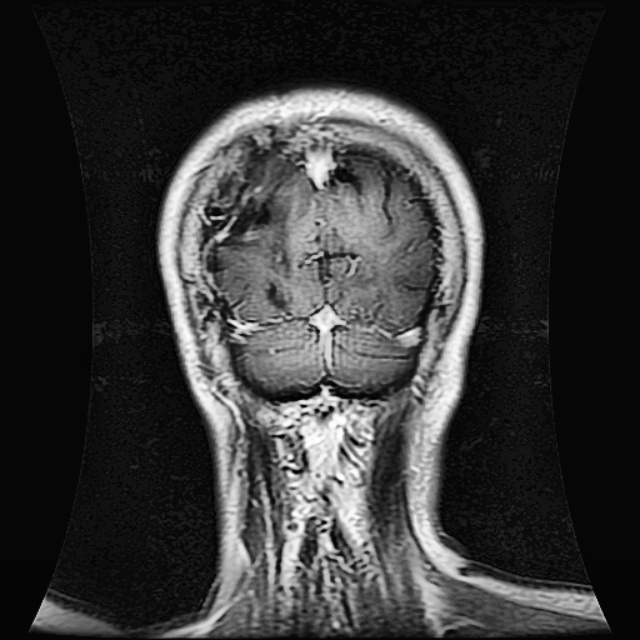Meningioma: (208, 158, 280, 247)
